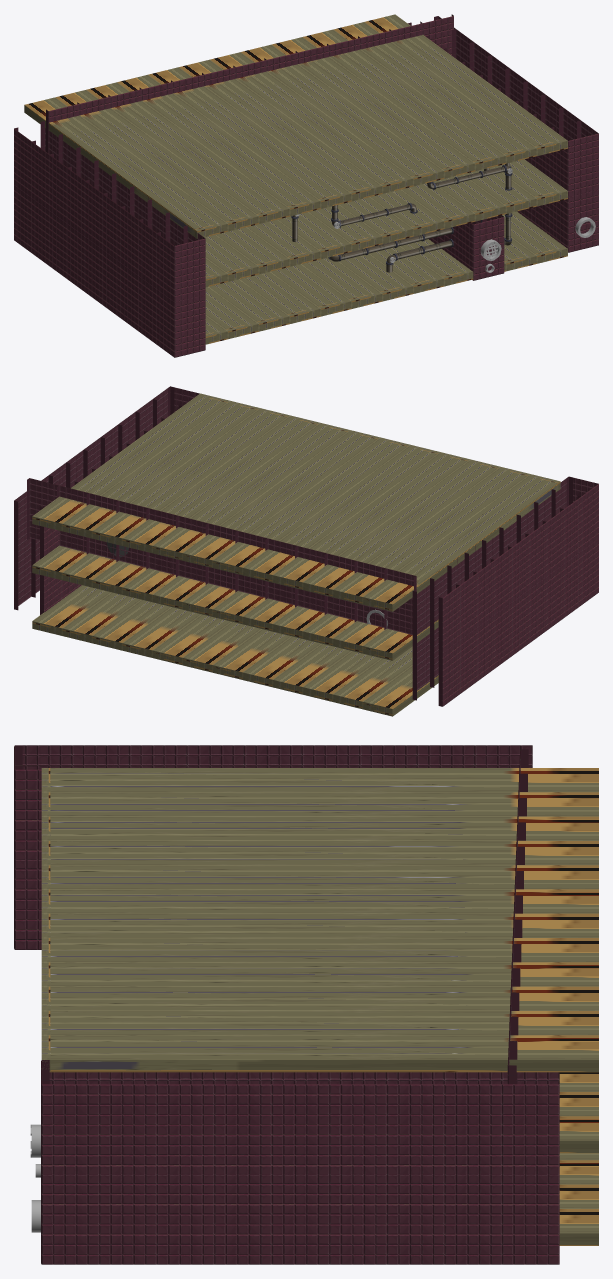
File: EscenarioMiriam2.fbx
The picture shows the model from 3 angles, top to bottom: view 1: azimuth 30°, elevation 25°; view 2: azimuth 150°, elevation 25°; view 3: azimuth 270°, elevation 25°; orthographic projection. The views are drawn at different scales.
Parts seen in each view (by area): view 1: polySurface521, Pared43, polySurface520, polySurface641, Pared46, polySurface453, polySurface640, polySurface344; view 2: polySurface521, Pared43, polySurface641, polySurface520, Pared46, polySurface453, polySurface344; view 3: polySurface521, Pared46, Pared43, polySurface641, polySurface520, polySurface453, polySurface344.
Boxes of the visible parts, x1,y1,x2,y2 form: polySurface521: (24,14,567,238); Pared43: (14,121,205,357); polySurface520: (204,159,567,287); polySurface641: (205,211,567,344); Pared46: (408,16,598,252); polySurface453: (235,14,453,78); polySurface640: (429,215,504,280); polySurface344: (46,65,235,153); polySurface521: (32,393,560,611); Pared43: (412,476,598,706); polySurface641: (32,585,438,716); polySurface520: (32,545,438,660); Pared46: (14,386,199,614); polySurface453: (27,478,237,590); polySurface344: (235,531,416,634); polySurface521: (41,768,598,1072); Pared46: (41,1060,559,1264); Pared43: (14,745,532,949); polySurface641: (559,1153,598,1245); polySurface520: (559,1072,598,1153); polySurface453: (507,895,522,1084); polySurface344: (514,749,528,896).
Size of the model in its own units: 702 by 222 by 509.
